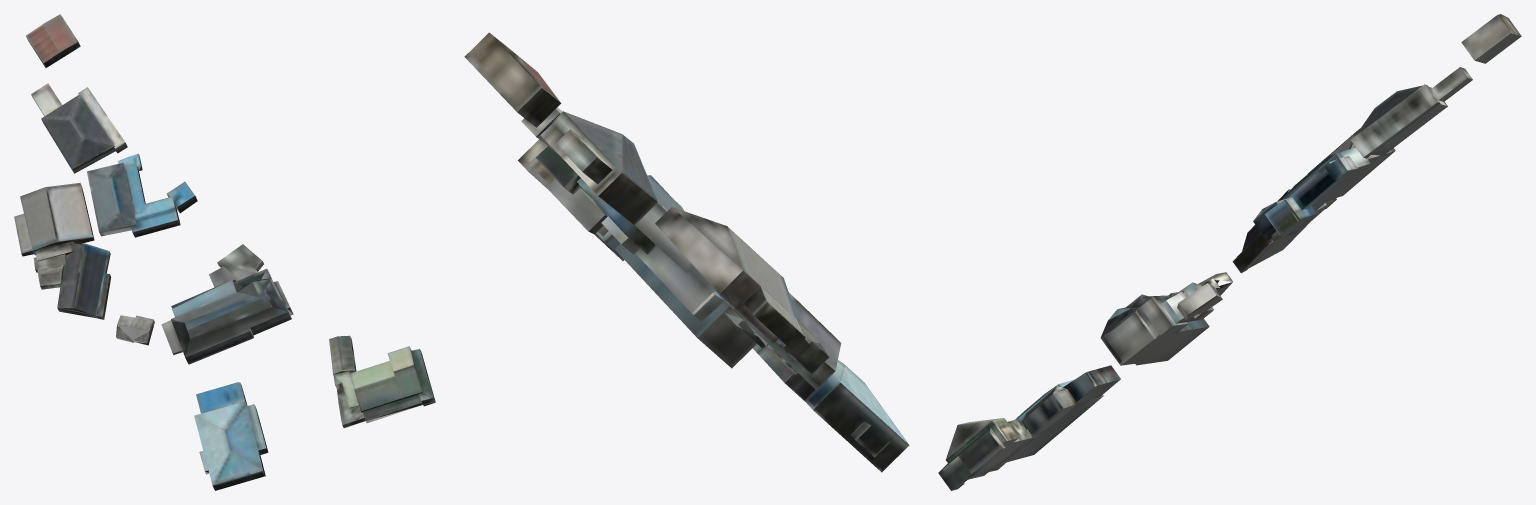
3 renders of one model, left to right at view 1: azimuth 30°, elevation 25°; view 2: azimuth 150°, elevation 25°; view 3: azimuth 270°, elevation 25°, orthographic. The views are drawn at different scales.
Bounding box in the file's own units: 46.09 × 55.56 × 64.81.
Materials: 2 (2 with a texture image).
